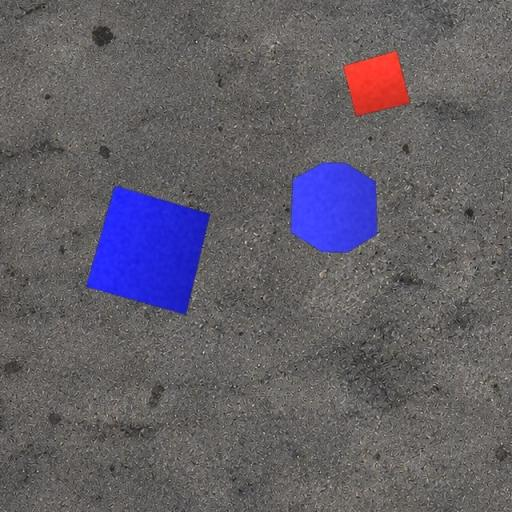BLUE_SQUARE: (85, 185, 210, 316)
RED_SQUARE: (342, 50, 412, 116)
